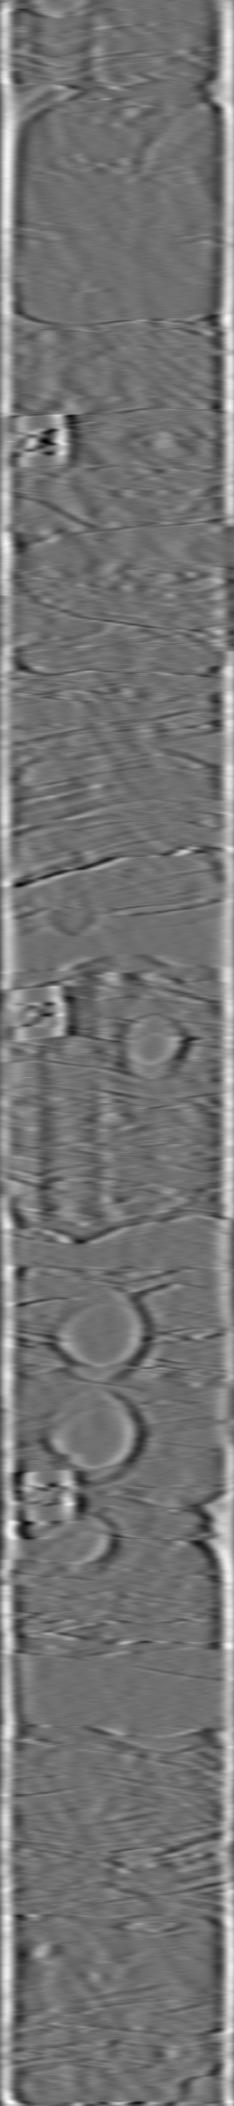hplug: (31, 1512, 125, 1582), (114, 1010, 192, 1084)
scal: (46, 1279, 157, 1387), (38, 1390, 147, 1490)
vplug: (34, 972, 104, 1236)
